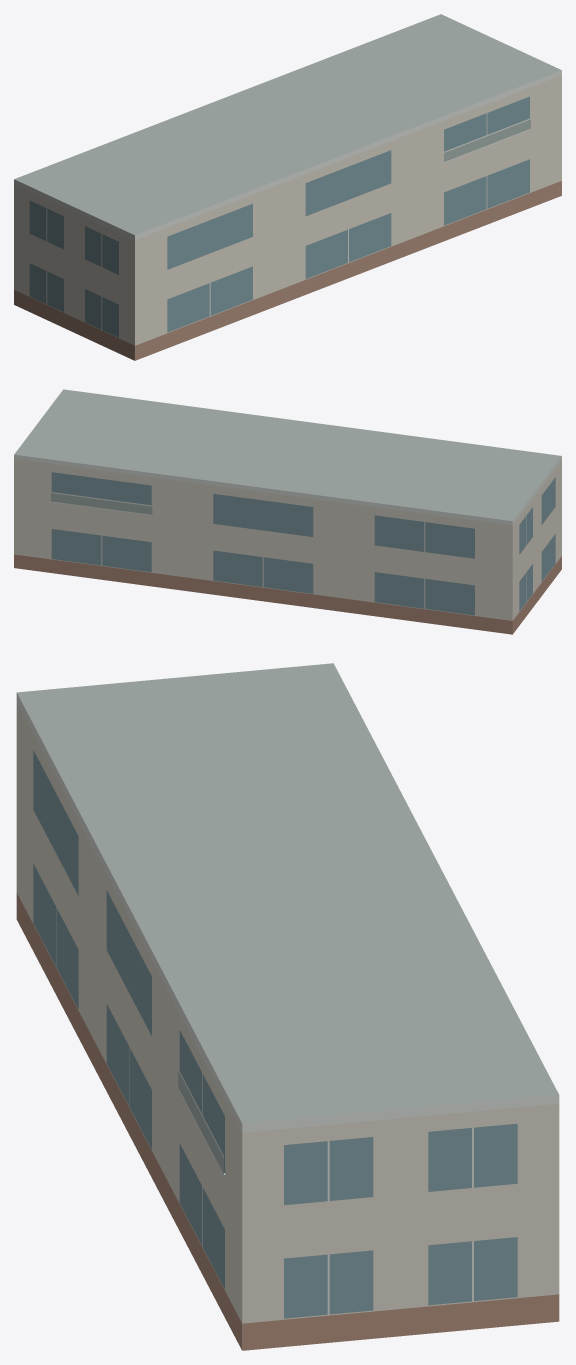
Rendered from survey-upis-32799871.glb.
3 renders of one model, top to bottom at view 1: azimuth 30°, elevation 25°; view 2: azimuth 150°, elevation 25°; view 3: azimuth 270°, elevation 25°, orthographic. The views are drawn at different scales.
Visible parts, largest first — view 1: survey-upis-32799871.tmp; view 2: survey-upis-32799871.tmp; view 3: survey-upis-32799871.tmp.
Part boxes in pixels (left/top/right/bottom): survey-upis-32799871.tmp: left=14, top=14, right=561, bottom=360; survey-upis-32799871.tmp: left=14, top=389, right=561, bottom=634; survey-upis-32799871.tmp: left=16, top=663, right=559, bottom=1350.
Bounding box in the file's own units: 26.58 × 6.1 × 13.23.
